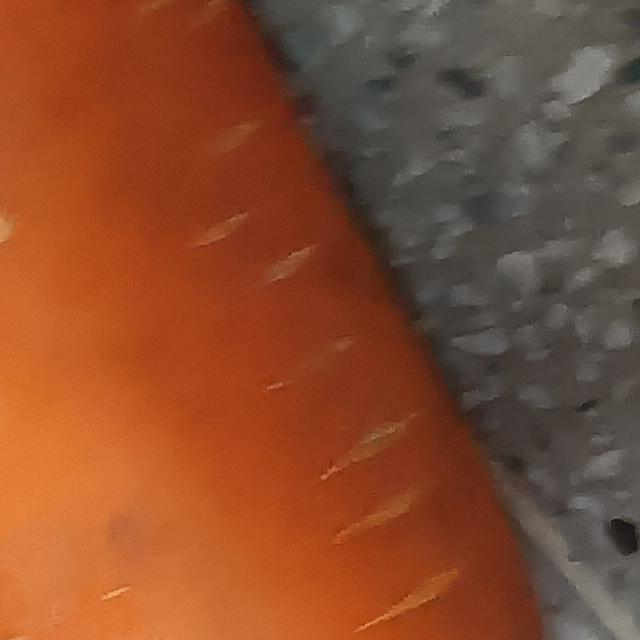carrot: (1, 1, 564, 640)
